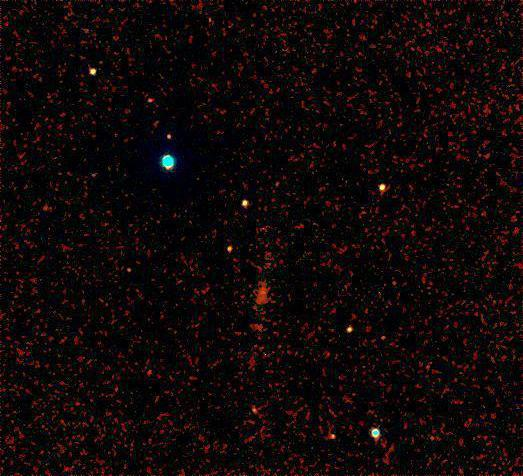star: (155, 122, 185, 152)
